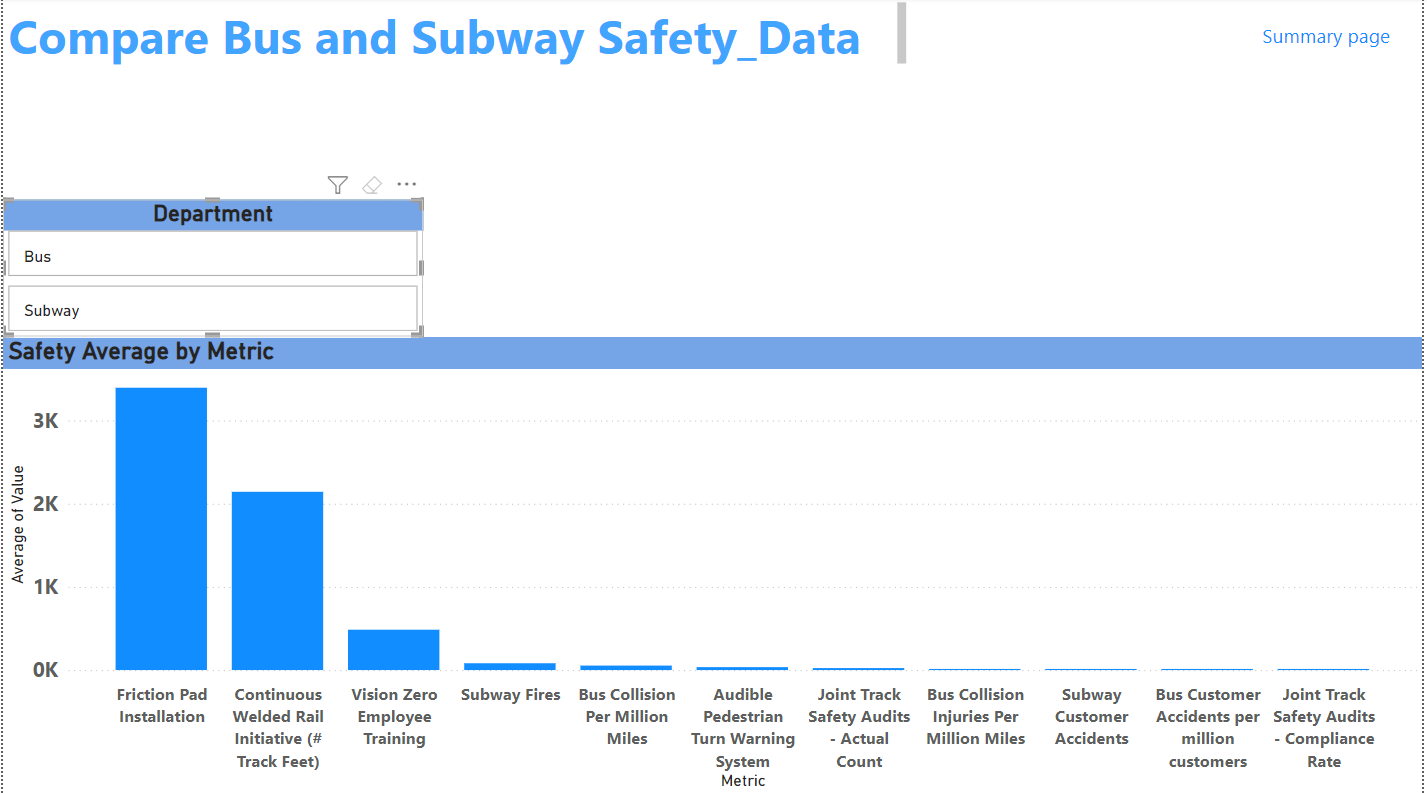

The page's visual inventory and layout, read from the dashboard file:
{"tool":"powerbi","page":{"name":"Safety_Data","canvas":[1280,720],"ordinal":2},"visuals":[{"type":"clusteredColumnChart","title":"Safety Average by Metric","fields":{"Y":["Avg(MTA_NYCT_Safety_Data_start_2019 (SQL).Value)"],"Category":["MTA_NYCT_Safety_Data_start_2019 (SQL).Metric"]},"box":[0,306.9,1280.3,413.3],"z":0},{"type":"advancedSlicerVisual","title":"Department","fields":{"Values":["MTA_NYCT_Safety_Data_start_2019 (SQL).Department"]},"box":[0,182.2,379.1,124.7],"z":1000},{"type":"textbox","box":[0,0,819.3,66],"z":2000},{"type":"actionButton","box":[1120.1,14.7,145.5,40.4],"z":3000}]}

Visuals, with their boxes on the page's 1280x720 design canvas (x1, y1, x2, y2). These are canvas units, not pixel positions in the 1427x793 screenshot, which may show the page scaled, cropped or inside an application window:
"Safety Average by Metric" clusteredColumnChart: pyautogui.locateOnScreen(0, 307, 1280, 720)
"Department" advancedSlicerVisual: pyautogui.locateOnScreen(0, 182, 379, 307)
textbox: pyautogui.locateOnScreen(0, 0, 819, 66)
actionButton: pyautogui.locateOnScreen(1120, 15, 1266, 55)
